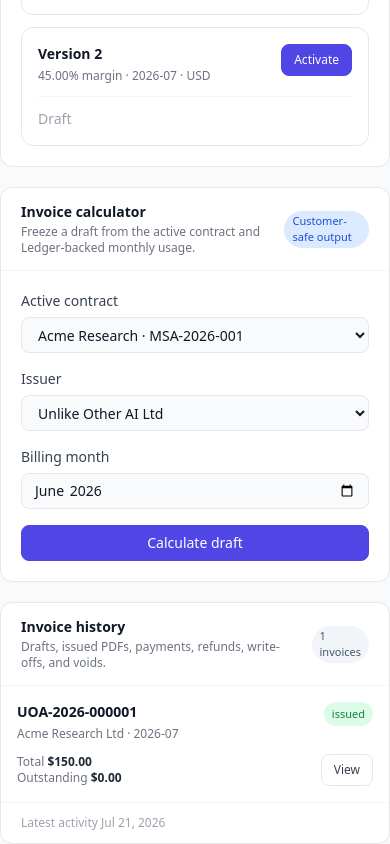
Test case: BillingContractsPanel › shows contract terms, invoice totals, and lifecycle affordances without private usage data
(page scrolled)
Expected: the button "Activate" is shown, [281,44,352,76]
Expected: the button "Calculate draft" is shown, [21,525,369,561]
Click the button "View".
click(347, 770)  # box [321,754,373,786]
(page scrolled)
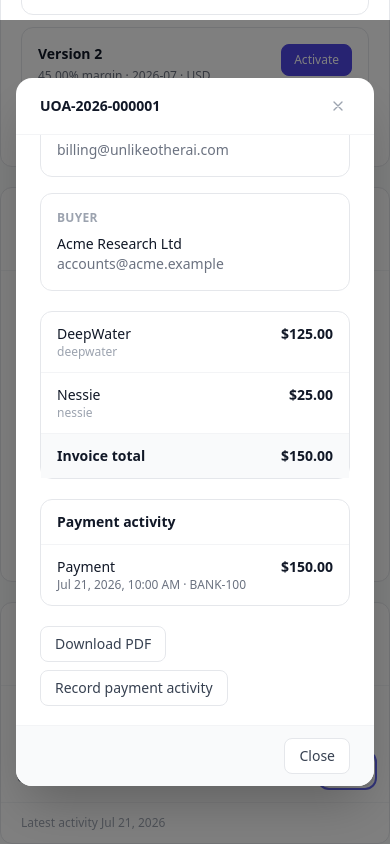
Expected: the text "DeepWater" is shown, [57,324,131,344]
Expected: the text "$125.00" is shown, [281,324,333,344]
Expected: the text "Invoice total" is shown, [57,446,145,466]
